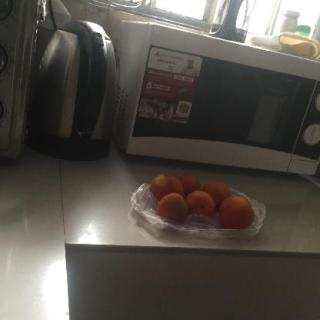Tomat: (137, 163, 263, 239)
